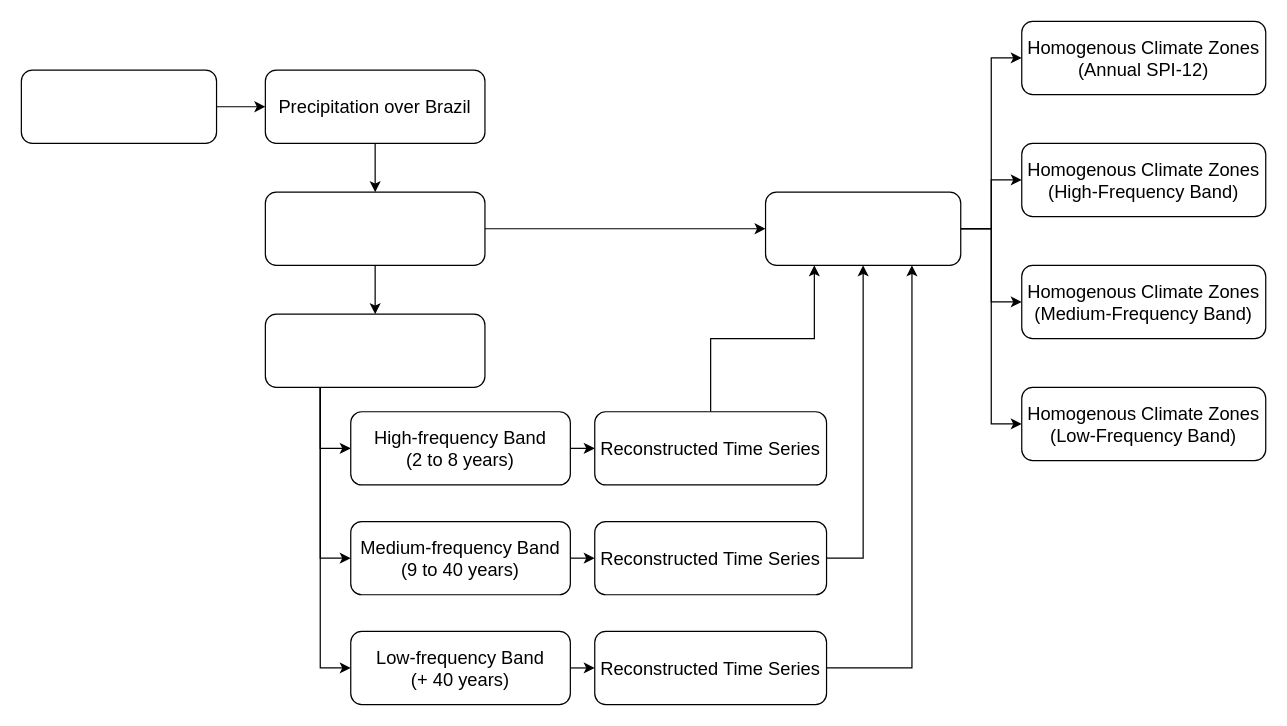
The diagram is 1287 pixels wide and 726 high, and some of its shapes have lost their labels. The shapes that lost their labels are listed below. From the top down, each one's box as (x1, y1, x2, y2) in pixels, then its label:
(20, 69, 217, 143): GPCC Global Dataset
(264, 191, 485, 265): Annual SPI-12
(764, 191, 961, 265): K-means Clustering
(264, 313, 485, 387): Wavelet Decomposition
